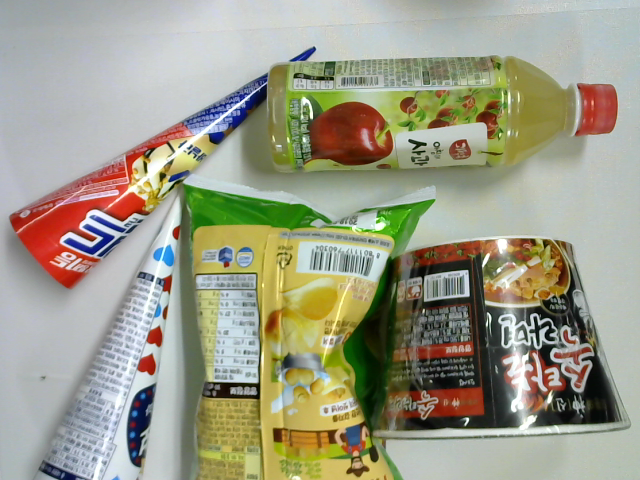Bravo_Cone_(Banila)_CVS: (29, 187, 183, 480)
HeJangsock: (360, 236, 630, 443)
Morning_Apple_500ml: (262, 56, 619, 178)
Pocachip_Onion: (182, 172, 452, 480)
World_Cone_Banila: (7, 47, 320, 297)
